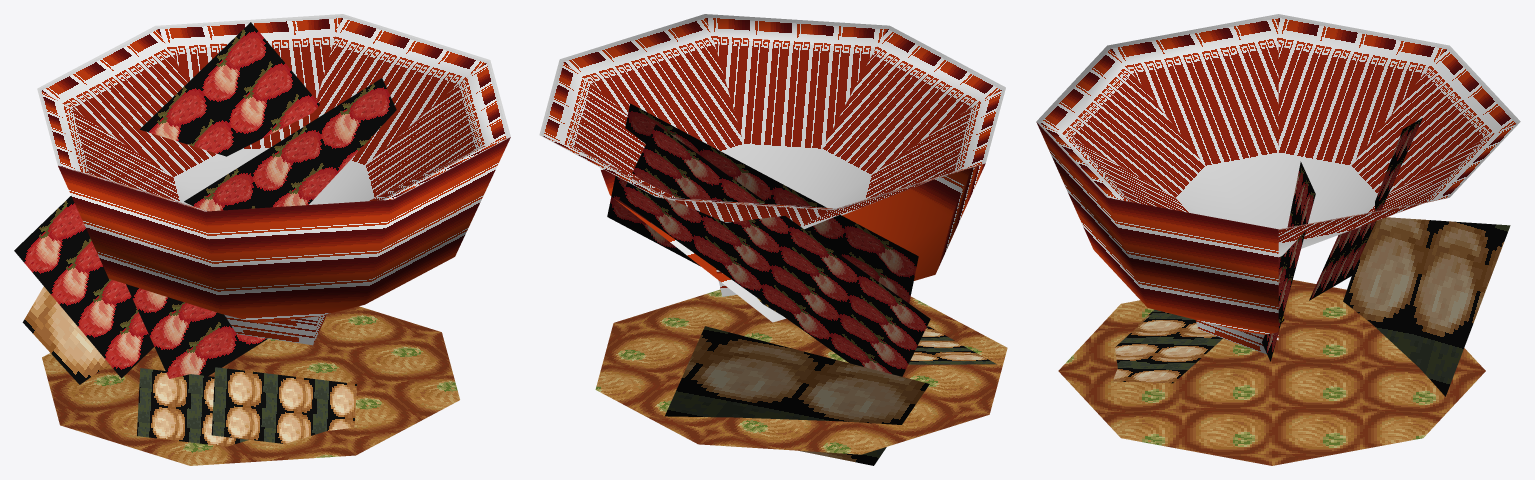
File: 5523u_ramn00_hl.gltf
3 renders of one model, left to right at view 1: azimuth 30°, elevation 25°; view 2: azimuth 150°, elevation 25°; view 3: azimuth 270°, elevation 25°, orthographic. The views are drawn at different scales.
Parts seen in each view (by area): view 1: 5523u_ramn00_hl; view 2: 5523u_ramn00_hl; view 3: 5523u_ramn00_hl.
Boxes of the visible parts, left/top/right/bottom form: 5523u_ramn00_hl: left=14, top=14, right=510, bottom=465; 5523u_ramn00_hl: left=539, top=14, right=1007, bottom=465; 5523u_ramn00_hl: left=1036, top=14, right=1520, bottom=465.
Bounding box in the file's own units: 0.7812 × 0.5945 × 0.7417.
5 materials, 5 textured.
